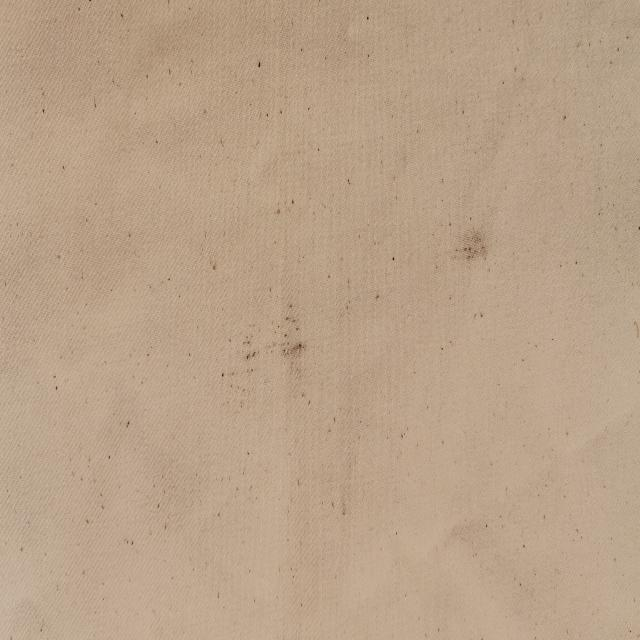taaaches: (454, 210, 498, 274), (276, 294, 306, 378), (232, 333, 260, 388)
